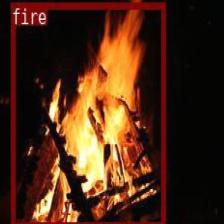fire: (11, 2, 165, 224)
